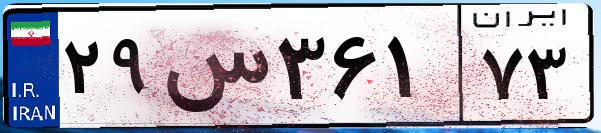1: (385, 28, 445, 110)
2: (57, 26, 110, 100)
3: (270, 28, 330, 110), (525, 38, 570, 115)
6: (330, 28, 385, 110)
7: (475, 38, 525, 113)
9: (110, 28, 158, 98)
س: (158, 20, 270, 120)
